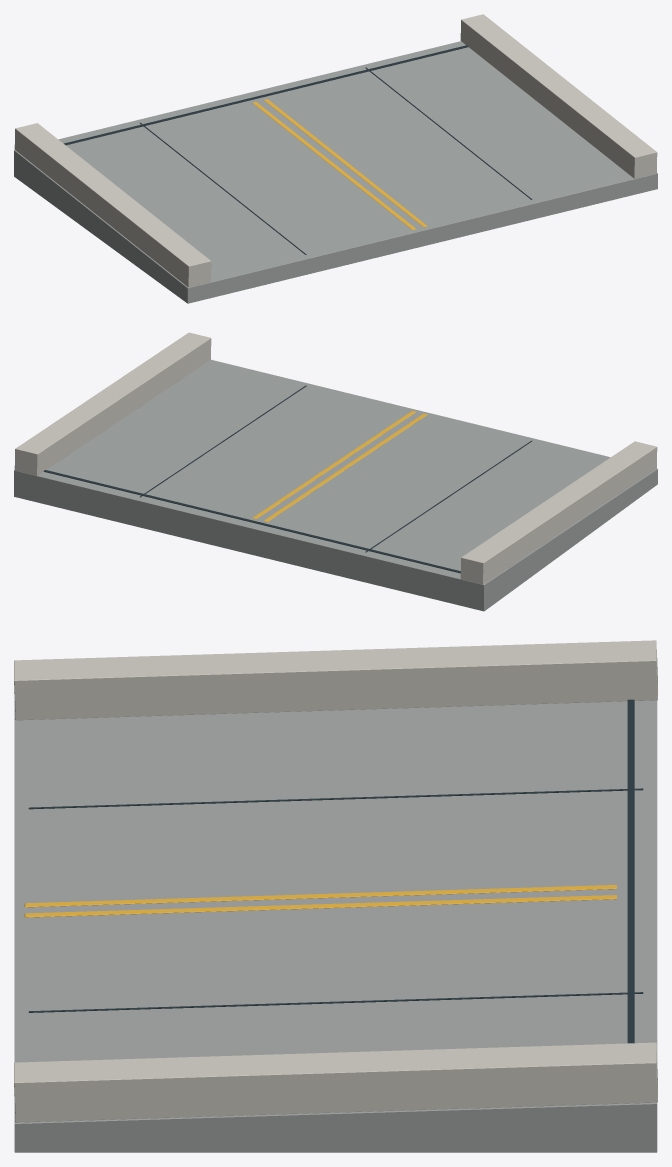
File: b13_bridge_approach_settlement_slab.glb
3 views of the same model, one above another, from view 1: azimuth 30°, elevation 25°; view 2: azimuth 150°, elevation 25°; view 3: azimuth 270°, elevation 25° (orthographic). The views are drawn at different scales.
Parts seen in each view (by area): view 1: b13_bridge_approach_settlement_slab; view 2: b13_bridge_approach_settlement_slab; view 3: b13_bridge_approach_settlement_slab.
Boxes of the visible parts, x1,y1,x2,y2 form: b13_bridge_approach_settlement_slab: [14, 14, 657, 303]; b13_bridge_approach_settlement_slab: [14, 332, 657, 611]; b13_bridge_approach_settlement_slab: [14, 640, 657, 1152].
Size of the model in its own units: 5 by 0.4899 by 3.21.
